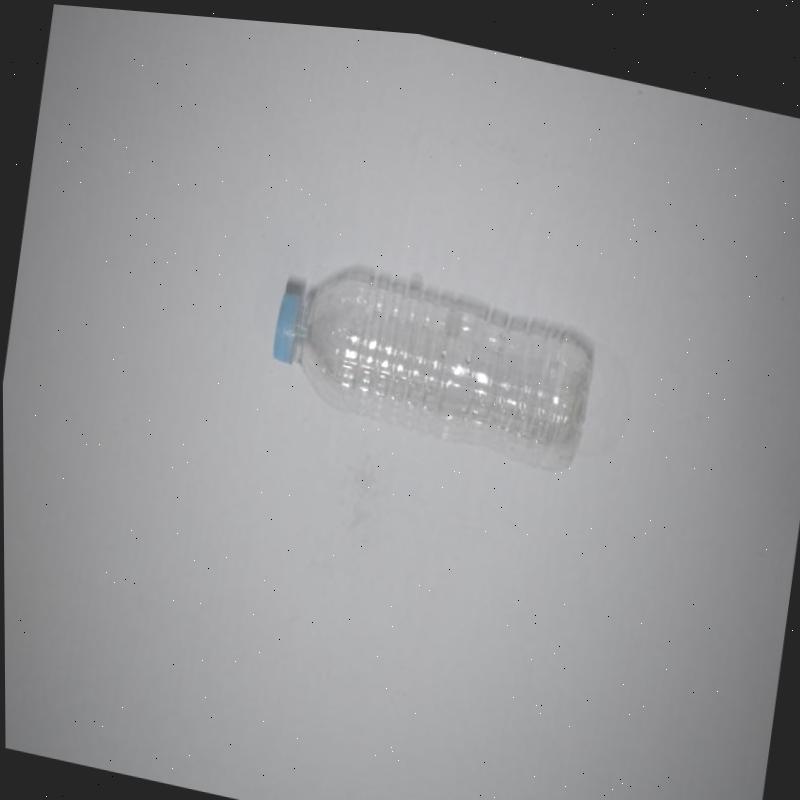botella: (264, 245, 605, 468)
